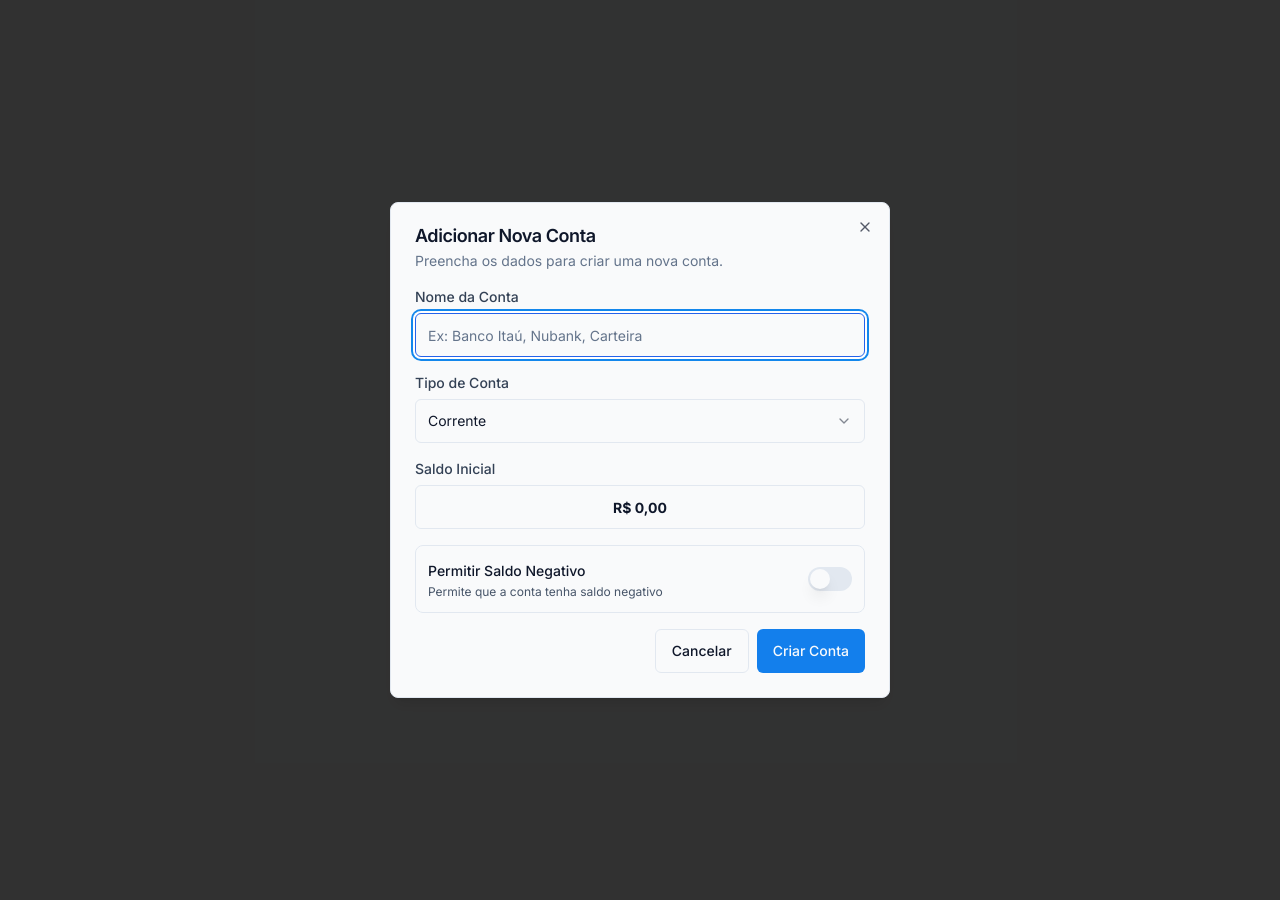
Test case: AccountForm › validates required fields
The width and height of the screenshot is (1280, 900).
Click the button "Criar Conta".
click(811, 651)  # box [757,629,865,673]
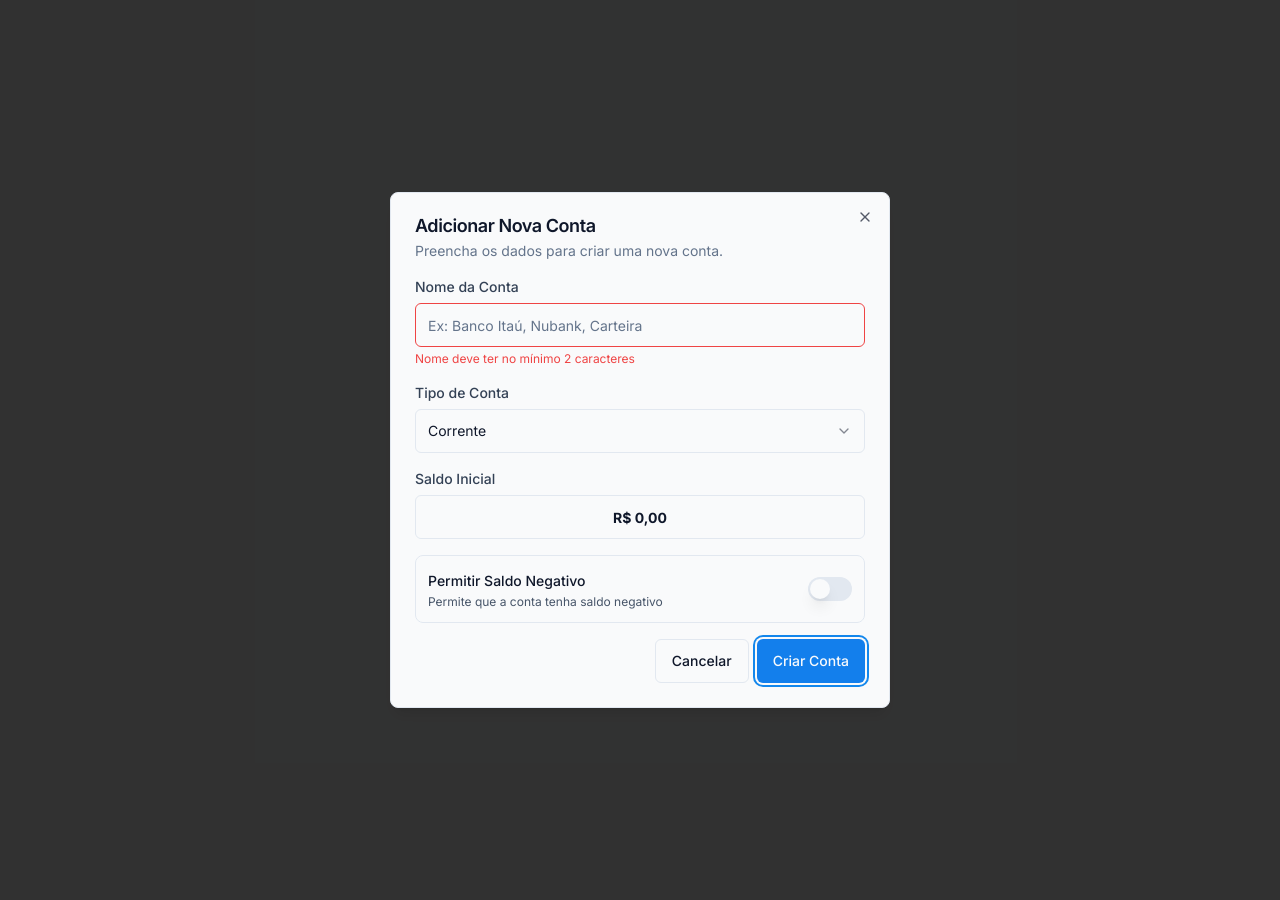
Result: the text "Nome deve ter no mínimo 2 caracteres" is shown at [415,351,635,366]
